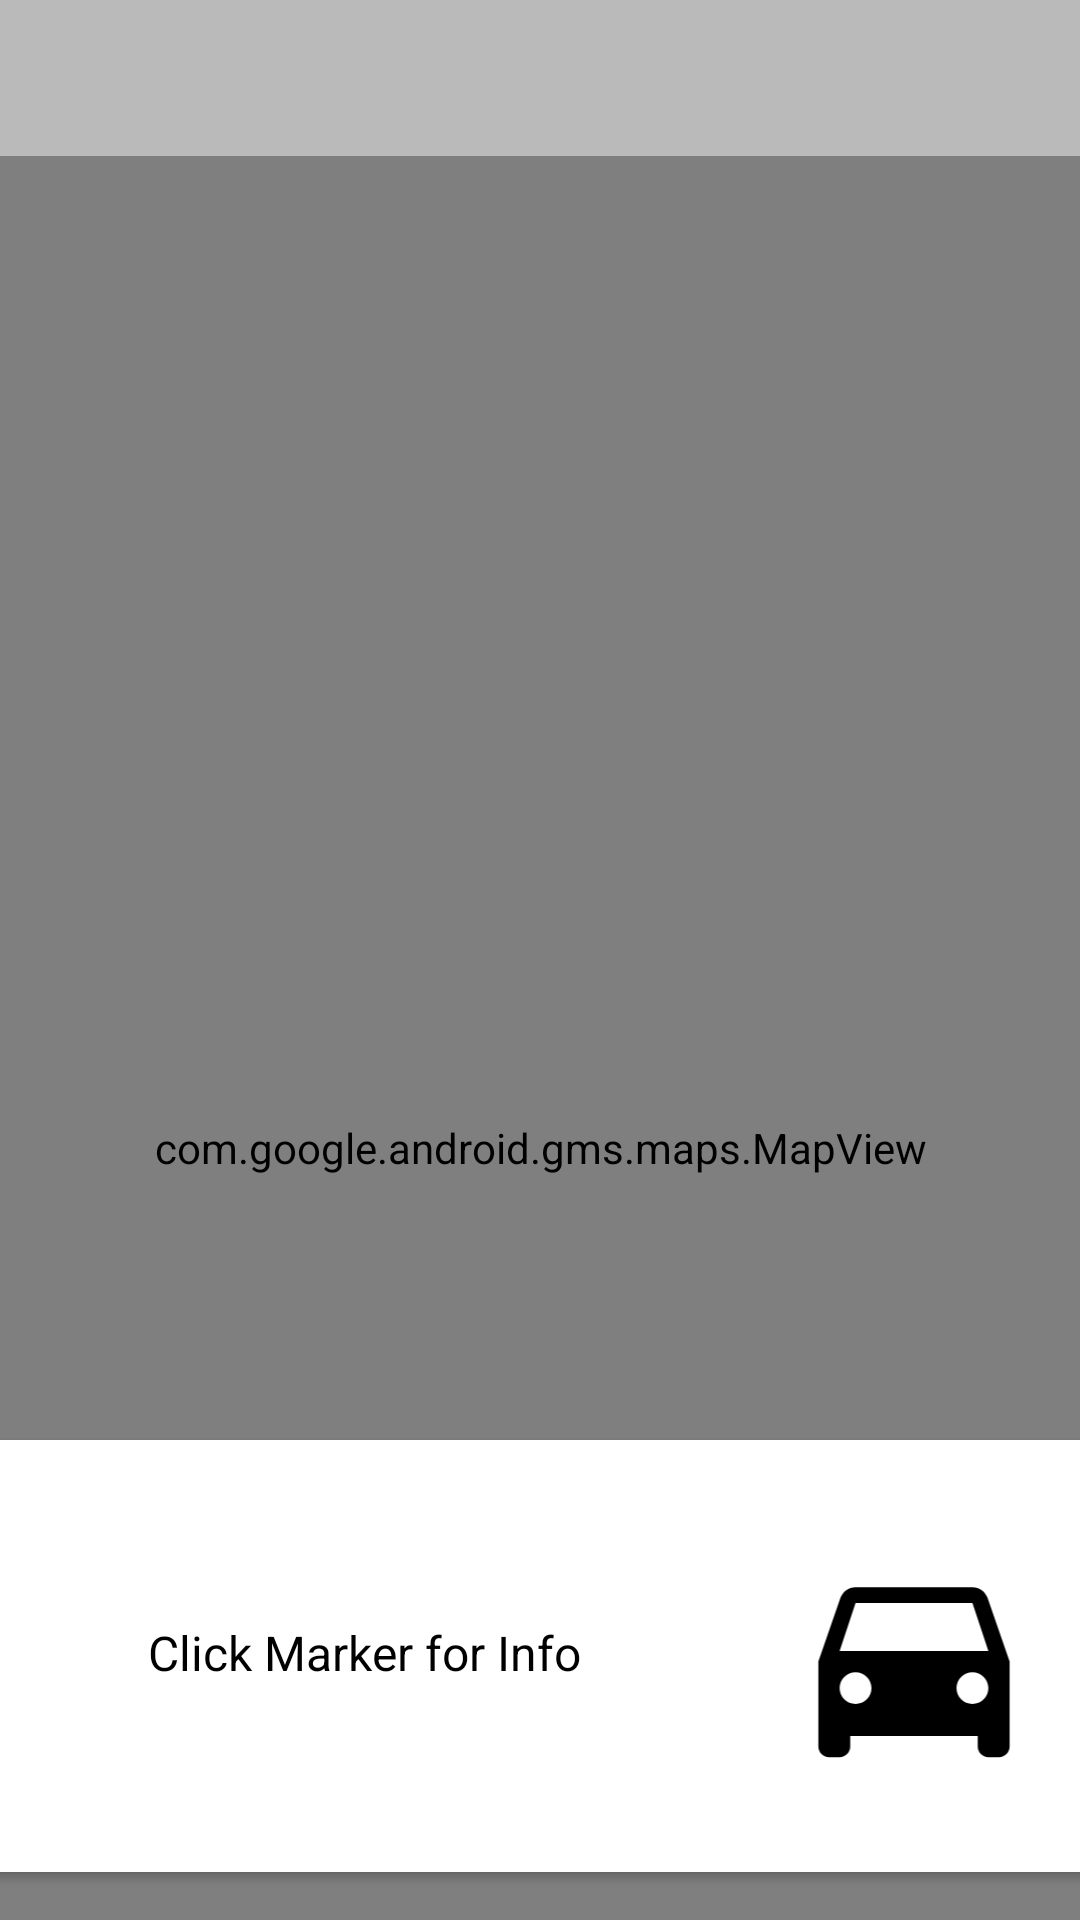

Screen size 1080*1920. Icon name, then its box in pixels as box(x1, y1, x2, y2):
directions car: box(818, 1587, 1010, 1758)
